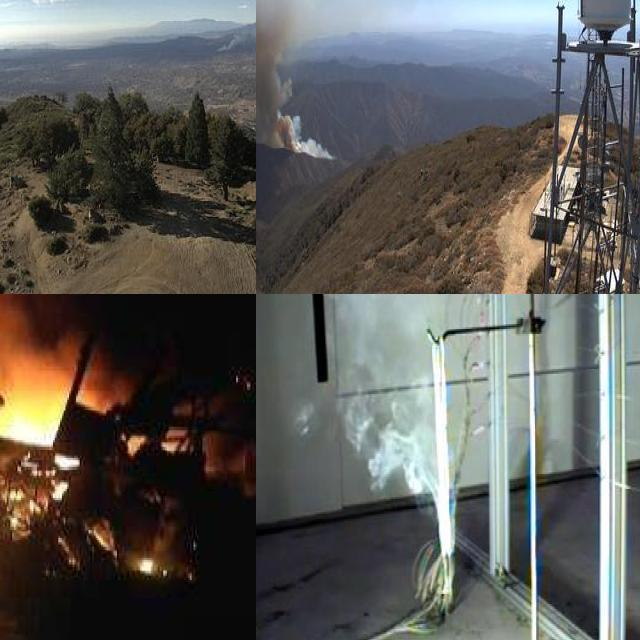fire: (0, 389, 99, 471)
smoke: (291, 294, 440, 515), (256, 0, 335, 168), (0, 294, 101, 407), (211, 0, 256, 53)
